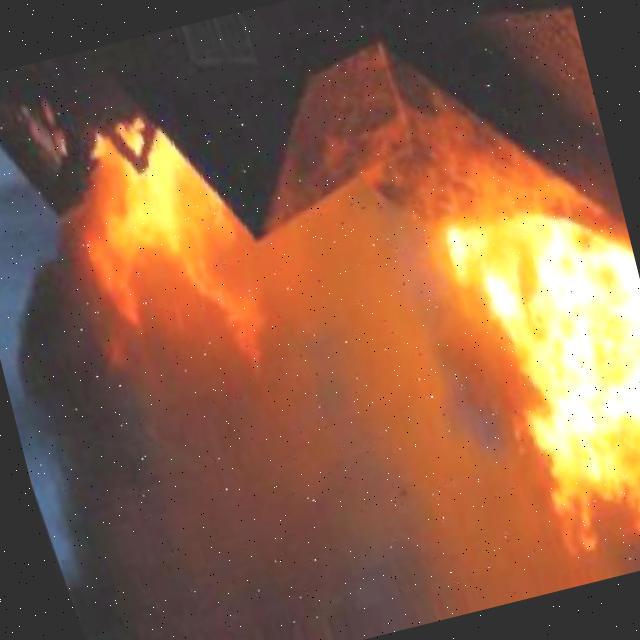fire: (443, 184, 640, 578), (54, 94, 284, 383)
